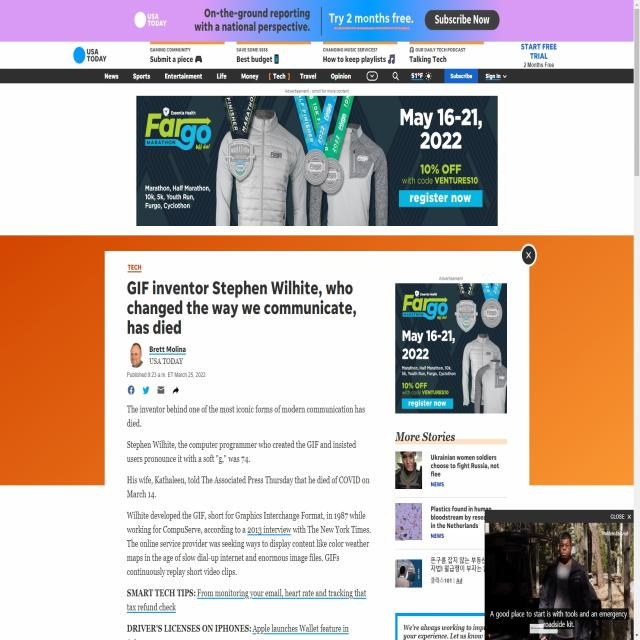menu-bar: (100, 68, 512, 82)
